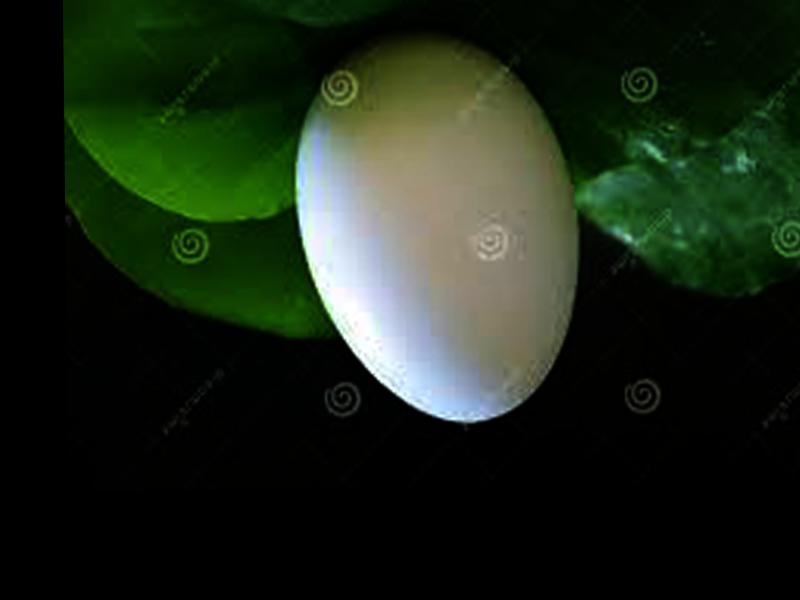Eggs: (293, 29, 582, 425)
